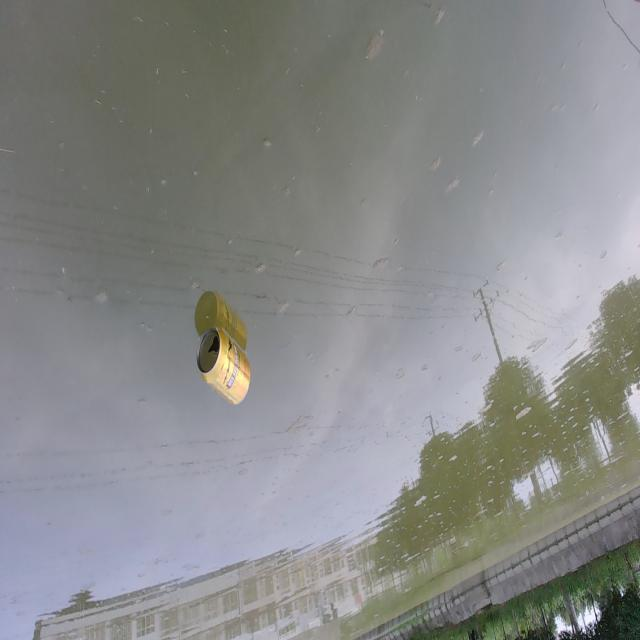Can: (195, 328, 252, 405)
